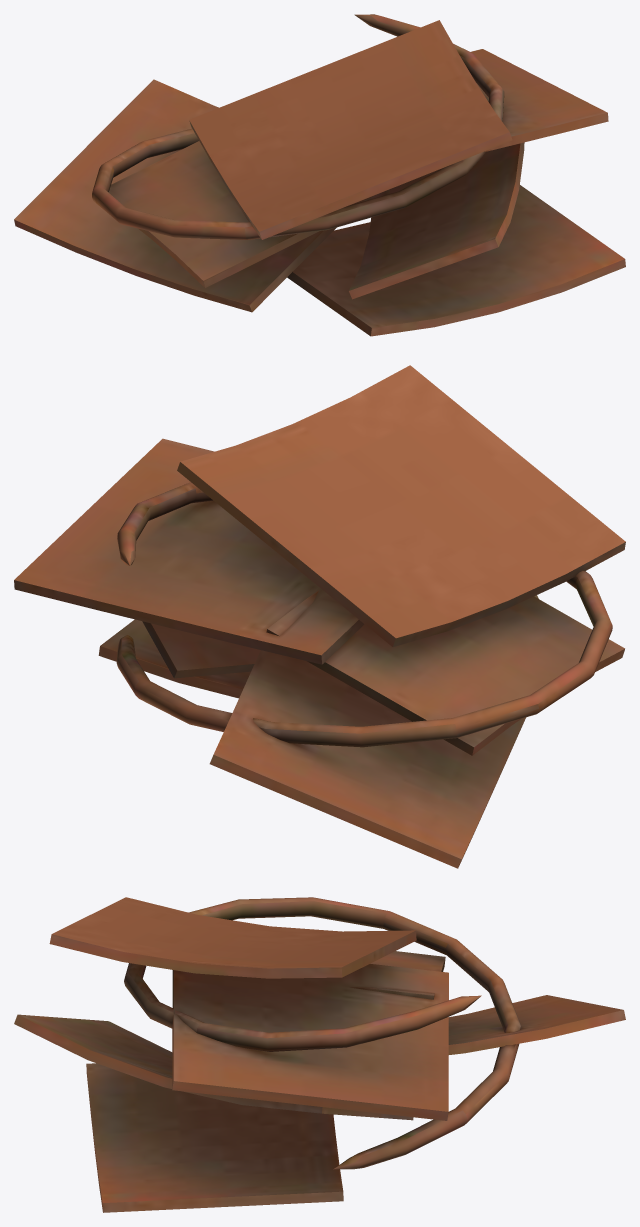
Rendered from copper_scrap.glb.
The picture shows the model from 3 angles, top to bottom: view 1: azimuth 30°, elevation 25°; view 2: azimuth 150°, elevation 25°; view 3: azimuth 270°, elevation 25°; orthographic projection. The views are drawn at different scales.
Parts seen in each view (by area): view 1: copper_scrap; view 2: copper_scrap; view 3: copper_scrap.
Part boxes in pixels (x1=…): copper_scrap: x1=14, y1=14, x2=625, y2=336; copper_scrap: x1=14, y1=365, x2=625, y2=868; copper_scrap: x1=14, y1=897, x2=625, y2=1212.
Size of the model in its own units: 0.0639 by 0.0288 by 0.0721.
1 material, 1 textured.
